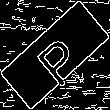P_NW: (26, 24, 84, 86)
